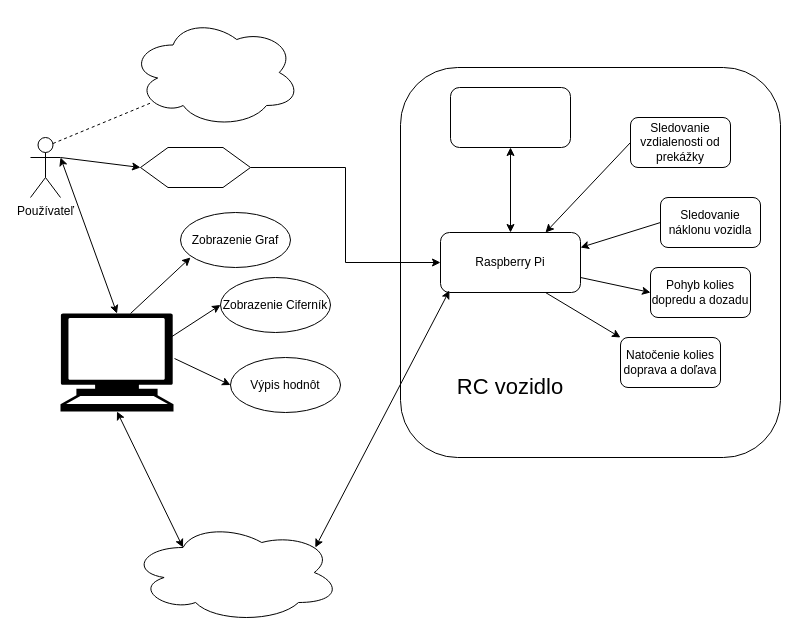
Some shapes in this 798 by 640 pixel diagram are drawn without their labels. Here are the shapes that lost their labels. From the top down, the centre of each, then its label:
At point (215, 72): "Príkazy na pohyb vozidla podľa jeho aktuálneho stavu".
At point (510, 117): "Zápis a výpis údajov zo súboru a z databázy".
At point (195, 167): "PS3 Controller".
At point (116, 362): "PC zobrazenie aplikácie a meraných veličín".
At point (235, 572): "Webová aplikácia".
